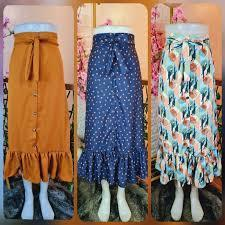skirt: (79, 31, 151, 178), (8, 29, 77, 180), (154, 32, 219, 186)
